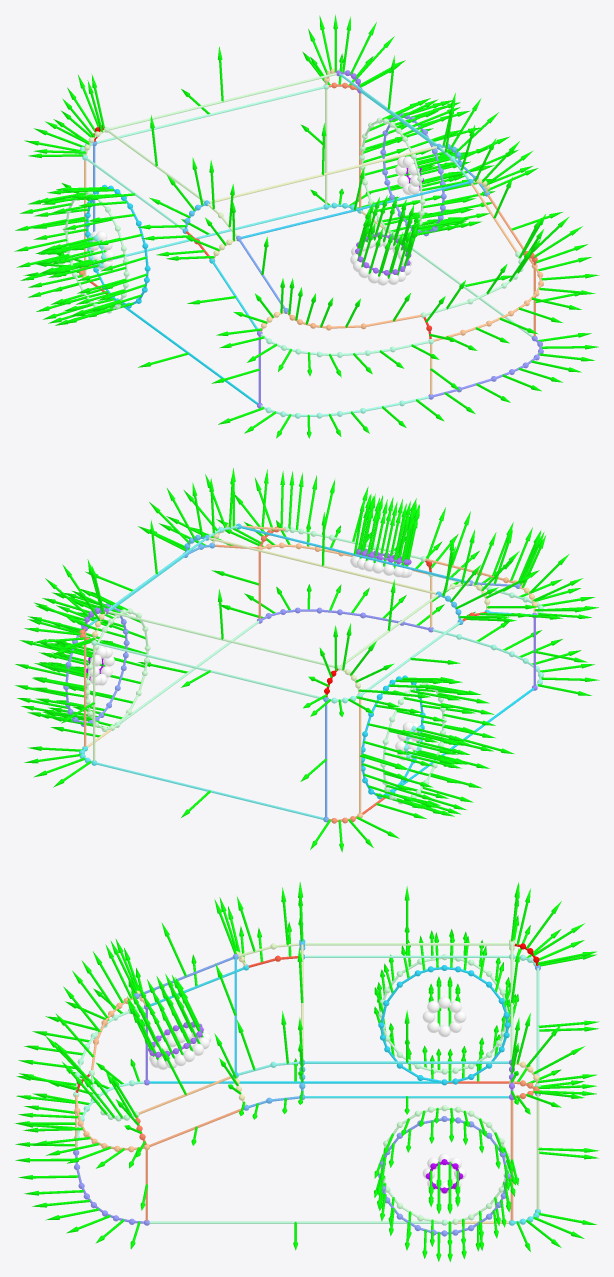
The model's file is onshape_vacuum.gltf.
The picture shows the model from 3 angles, top to bottom: view 1: azimuth 30°, elevation 25°; view 2: azimuth 150°, elevation 25°; view 3: azimuth 270°, elevation 25°; orthographic projection. The views are drawn at different scales.
Size of the model in its own units: 0.8155 by 0.3786 by 0.9422.
